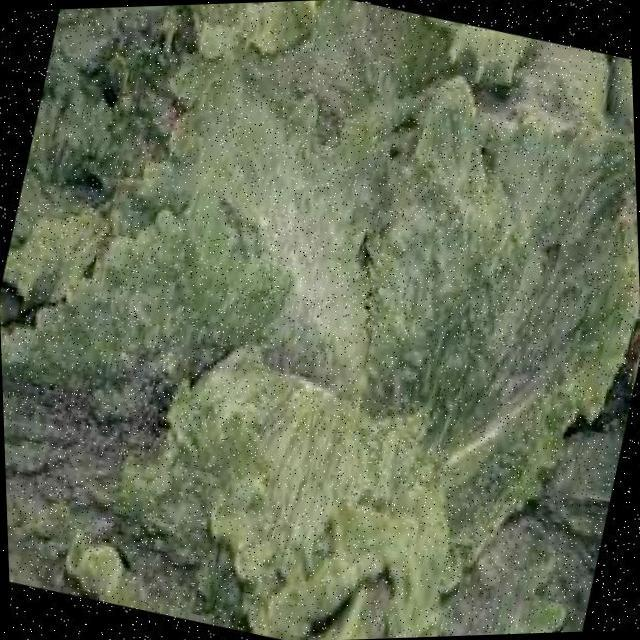Powdery_mildew_on_lettuce: (147, 93, 490, 450)
